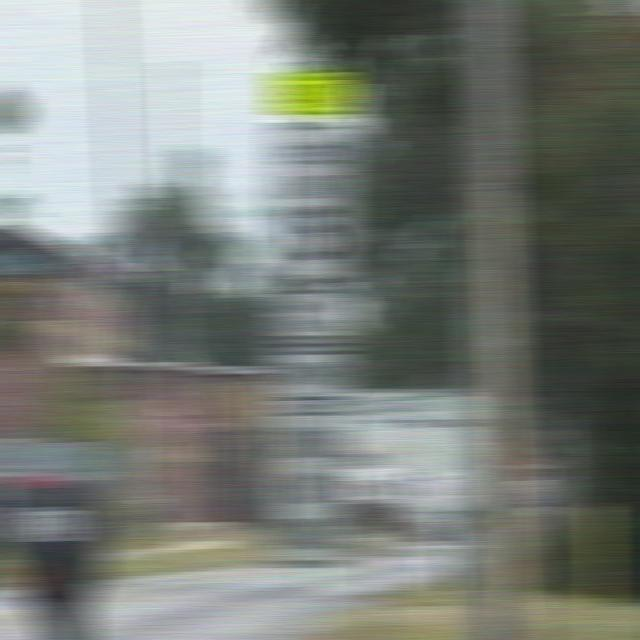speedLimit15: (269, 118, 355, 286)
